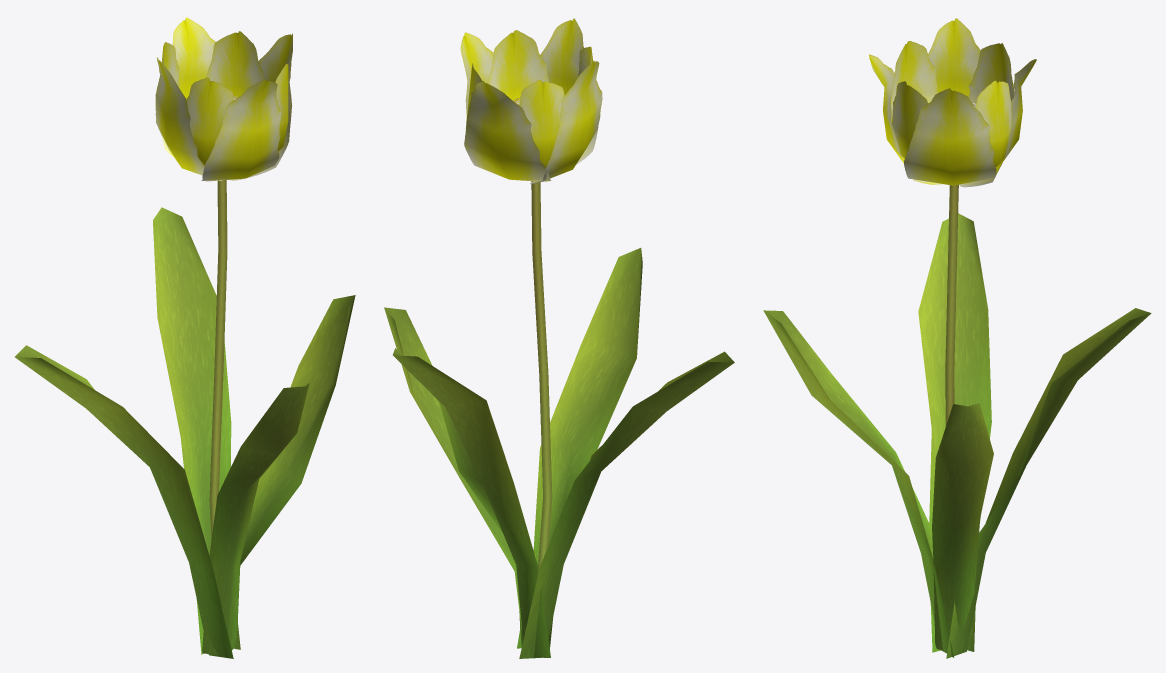
Rendered from m_flower17.fbx.
3 renders of one model, left to right at view 1: azimuth 30°, elevation 25°; view 2: azimuth 150°, elevation 25°; view 3: azimuth 270°, elevation 25°, orthographic.
Parts seen in each view (by area): view 1: mesh_flower17; view 2: mesh_flower17; view 3: mesh_flower17.
Boxes of the visible parts, <box> form: mesh_flower17: <box>15,17,355,658</box>; mesh_flower17: <box>384,18,734,658</box>; mesh_flower17: <box>763,18,1151,658</box>.
Size of the model in its own units: 0.2482 by 0.4208 by 0.2434.
1 material, 1 textured.
